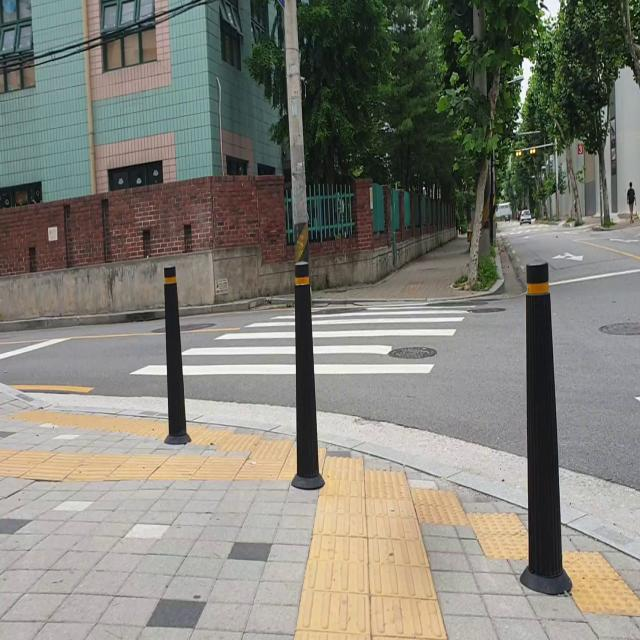횡단보도: (128, 303, 476, 378)
